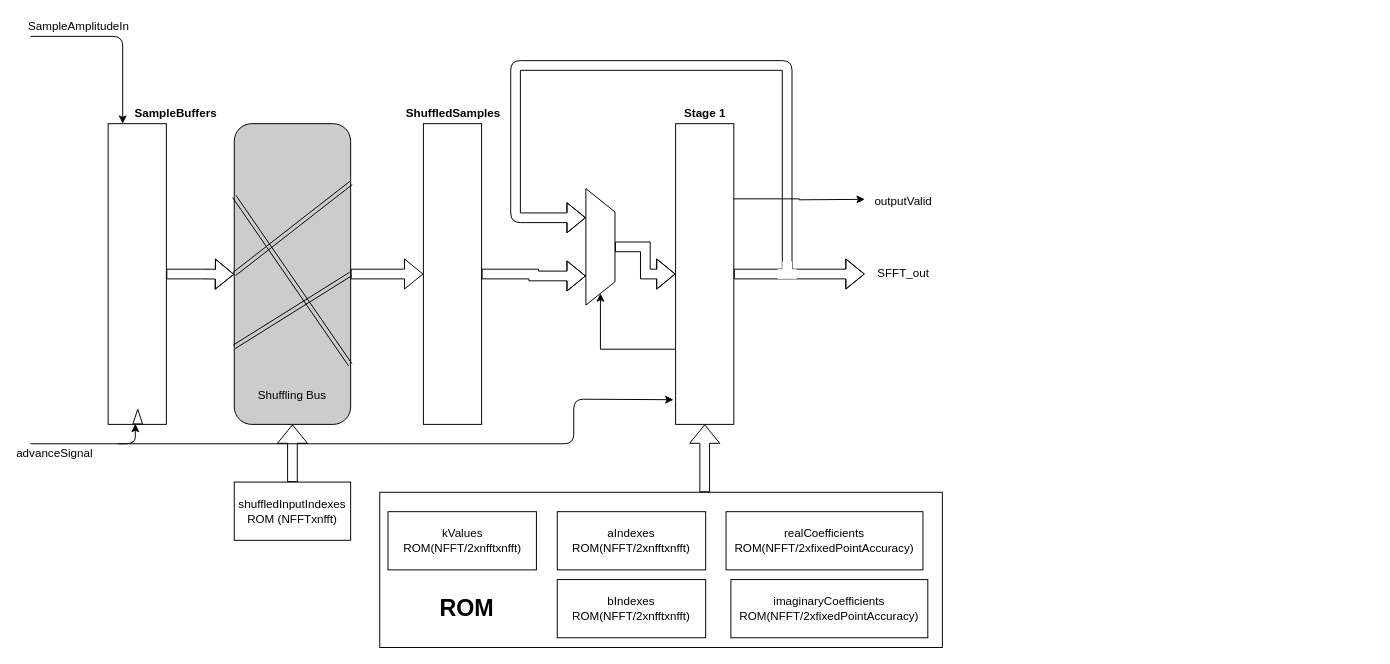
The diagram is 1390 pixels wide and 664 high, and some of its shapes have lost their labels. Here are the shapes that lost their labels. From the top down, the centre of each, then its label:
point 136,273: << Shift Buffer (NFFTxbitWidth)
point 452,273: Latch Array (NFFTxbitWidth)
point 704,273: pipelineStage
